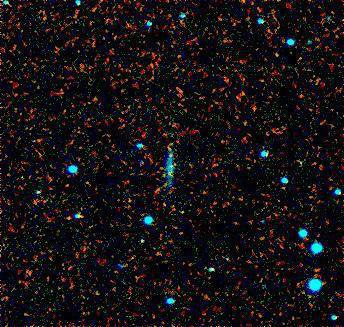star: (53, 203, 83, 233)
